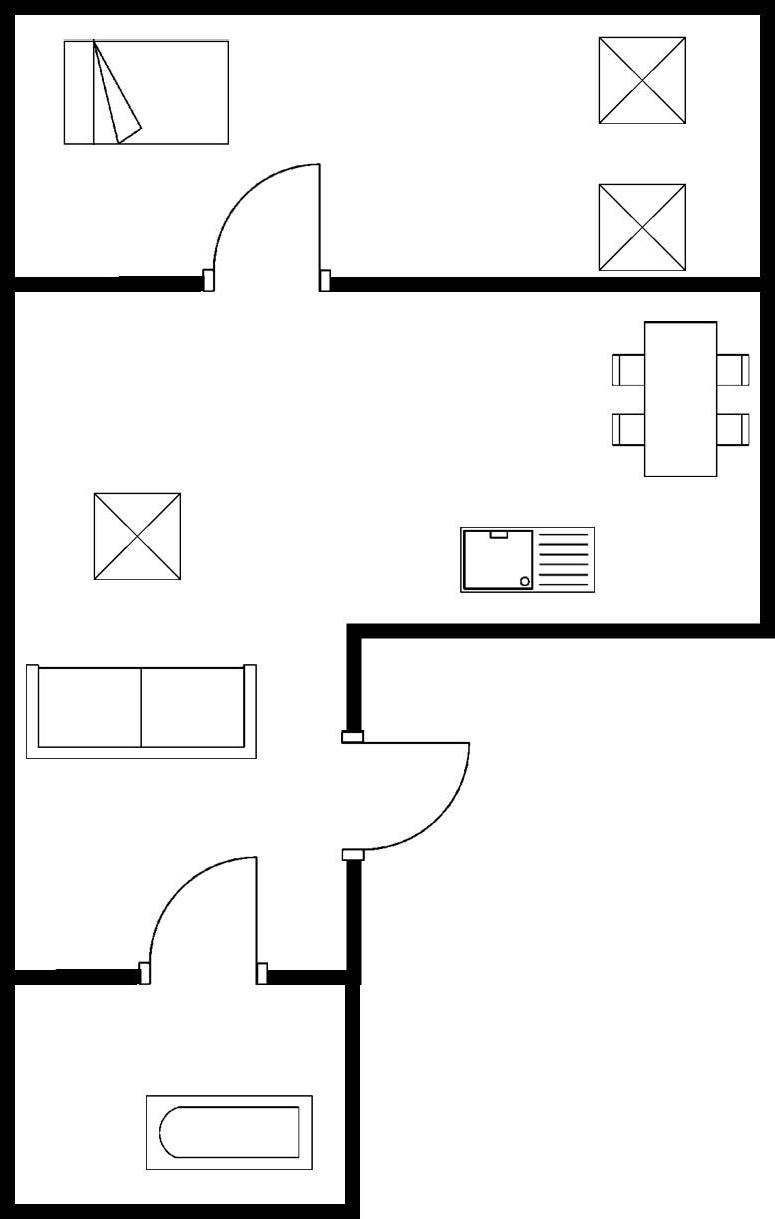bed: (55, 32, 237, 151)
dining_table: (603, 312, 753, 482)
sink: (451, 517, 607, 602)
sofa: (19, 657, 265, 765)
tub: (135, 1087, 319, 1175)
